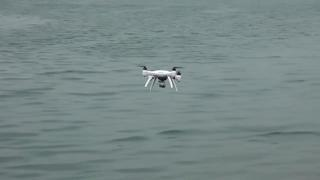UAV: (143, 66, 181, 92)
